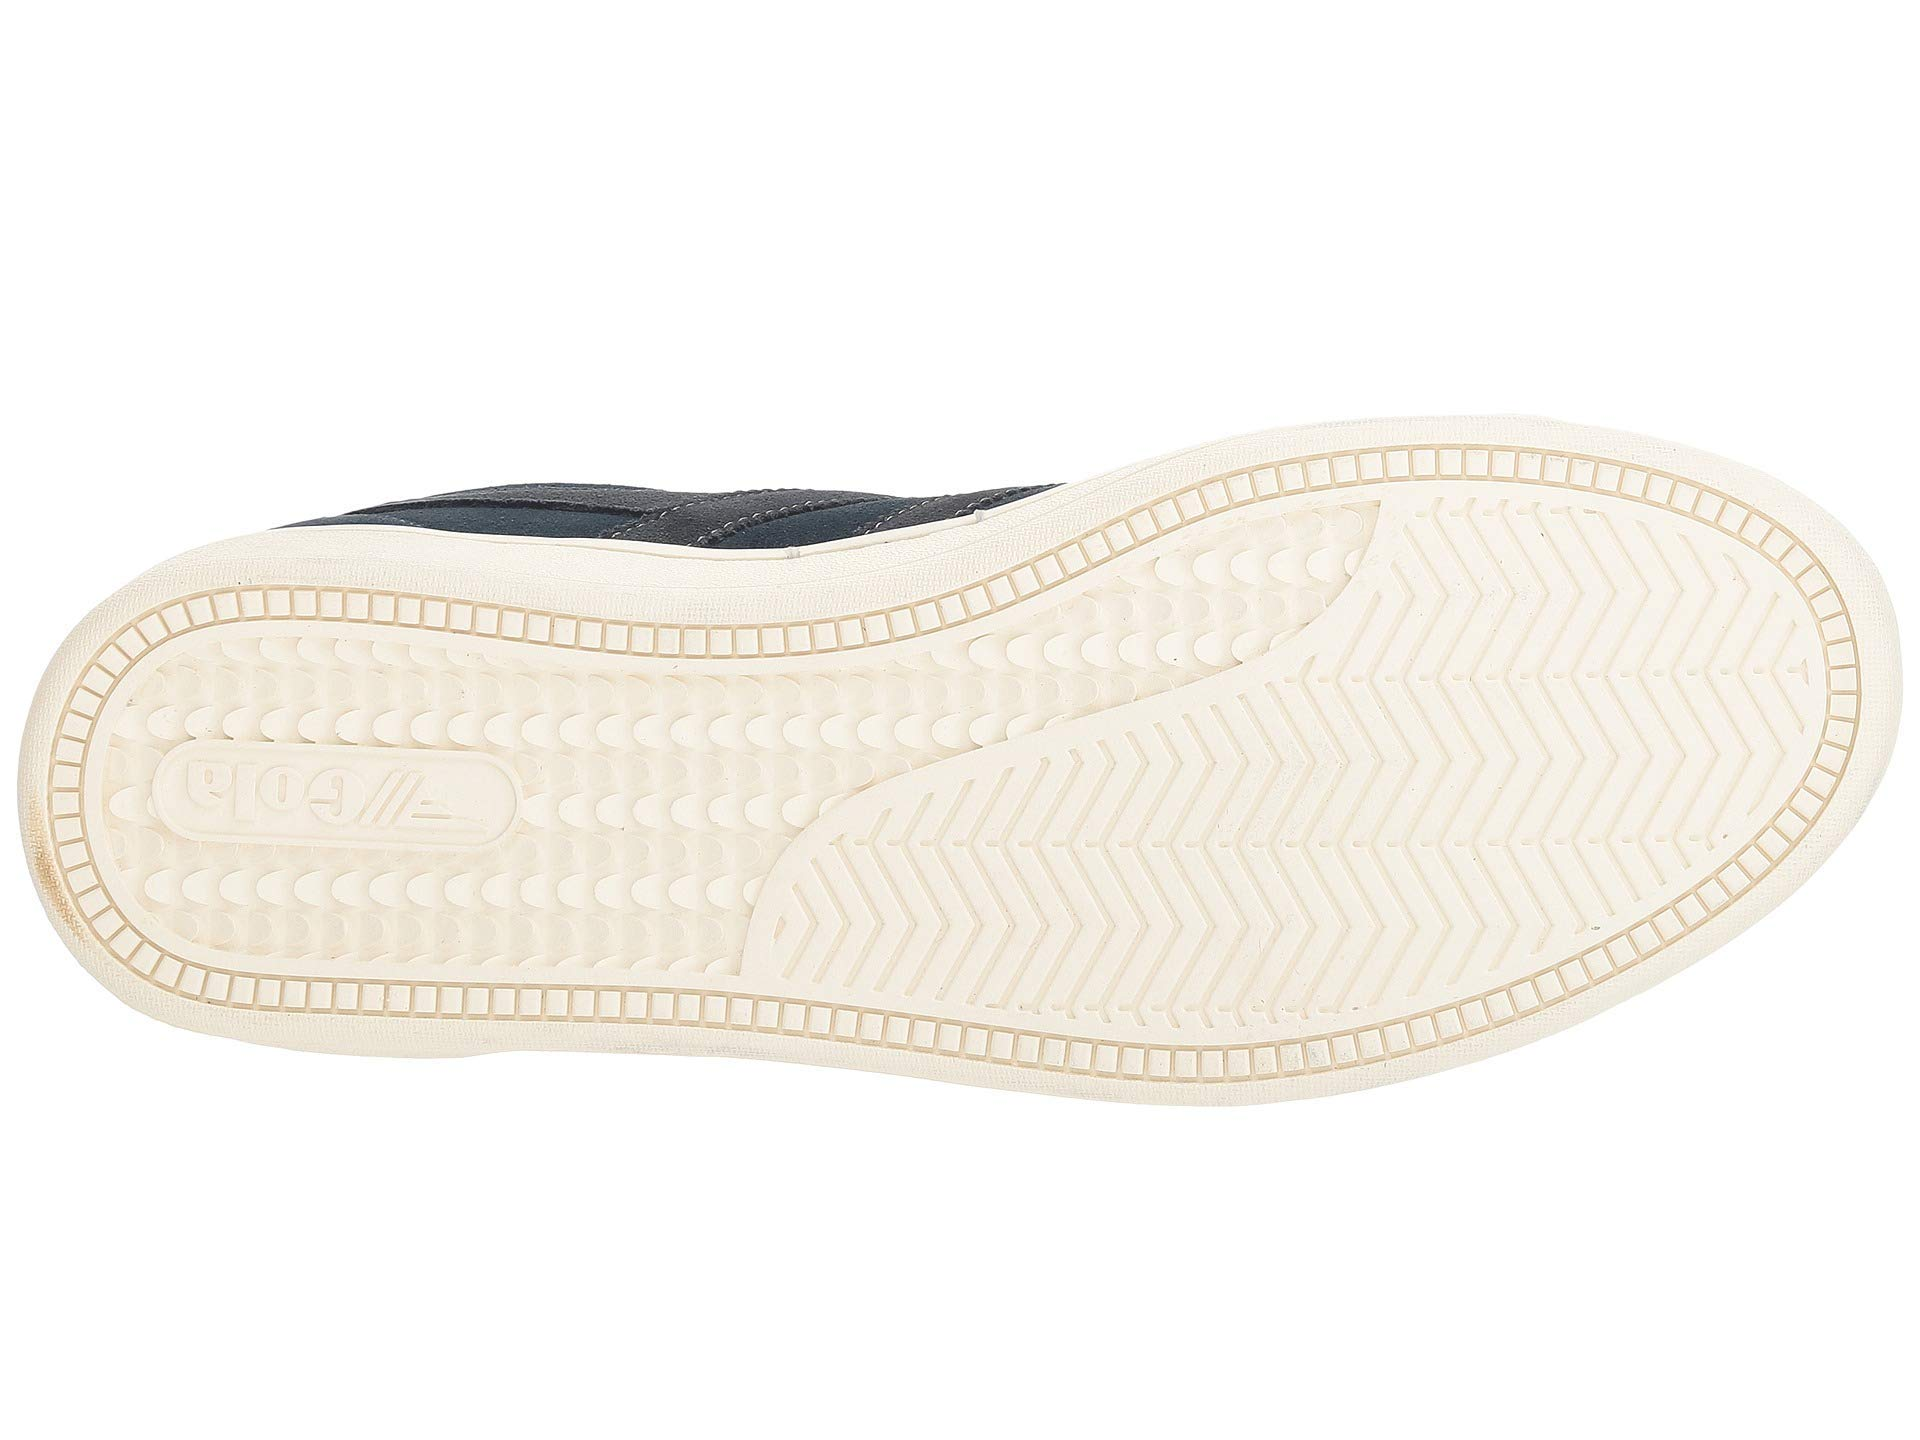chevron: (1429, 554, 1734, 826), (1135, 784, 1400, 1075)
exclude: (113, 312, 1225, 582)
quad: (1135, 784, 1400, 1075), (138, 725, 549, 892), (1395, 430, 1495, 513)
text: (138, 725, 549, 892)
triangle: (138, 725, 549, 892)
